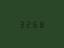eight: (36, 20, 41, 28)
six: (30, 19, 35, 28)
three: (18, 19, 23, 27)
two: (24, 19, 29, 27)
